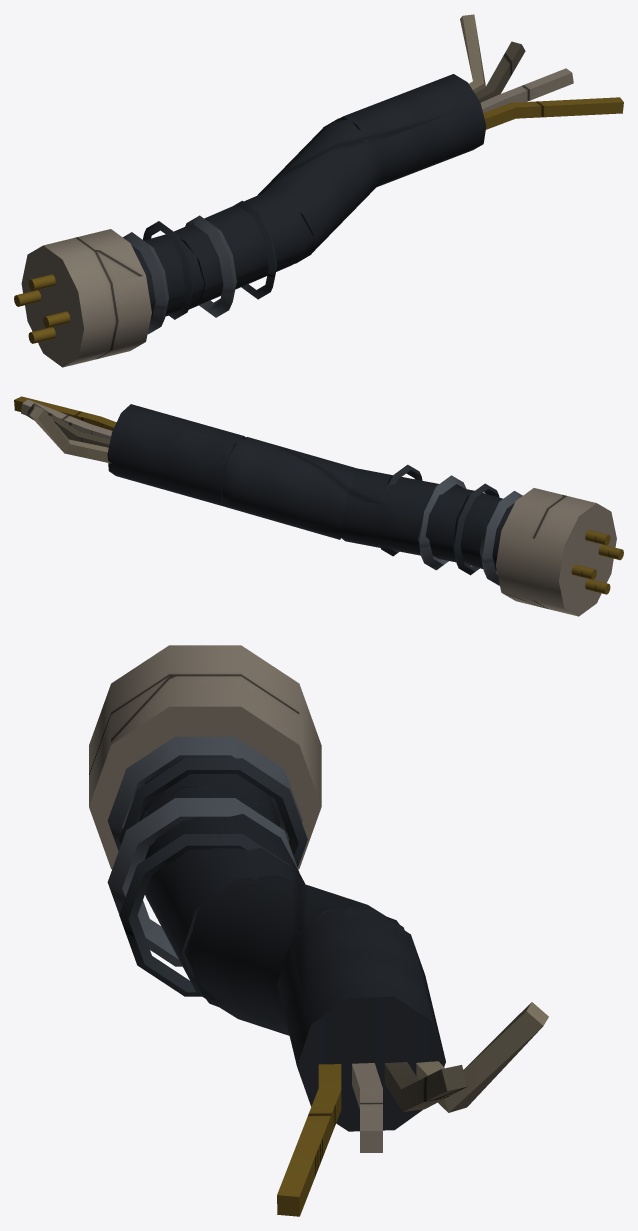
Rendered from cargo-severed-umbilical_lod2.glb.
The picture shows the model from 3 angles, top to bottom: view 1: azimuth 30°, elevation 25°; view 2: azimuth 150°, elevation 25°; view 3: azimuth 270°, elevation 25°; orthographic projection. The views are drawn at different scales.
Parts seen in each view (by area): view 1: LOD2_MechanicalDark, LOD2_BrushedMetal, LOD2_Livery, LOD2_Mechanical, LOD2_Armor, LOD2_Hull, LOD2_Ceramic; view 2: LOD2_MechanicalDark, LOD2_BrushedMetal, LOD2_Mechanical, LOD2_Livery, LOD2_Armor, LOD2_Ceramic, LOD2_Hull; view 3: LOD2_MechanicalDark, LOD2_BrushedMetal, LOD2_Mechanical, LOD2_Armor, LOD2_Livery, LOD2_Ceramic, LOD2_Hull.
Boxes of the visible parts, x1,y1,x2,y2 form: LOD2_MechanicalDark: (131,74,486,318); LOD2_BrushedMetal: (21,68,573,367); LOD2_Livery: (14,97,623,343); LOD2_Mechanical: (123,215,236,334); LOD2_Armor: (143,200,277,319); LOD2_Hull: (475,41,525,102); LOD2_Ceramic: (460,14,485,92); LOD2_MechanicalDark: (107,404,514,570); LOD2_BrushedMetal: (21,399,616,616); LOD2_Mechanical: (417,475,522,585); LOD2_Livery: (14,396,623,594); LOD2_Armor: (379,464,499,575); LOD2_Ceramic: (29,406,111,463); LOD2_Hull: (27,403,110,447); LOD2_MechanicalDark: (139,758,445,1131); LOD2_BrushedMetal: (89,645,382,1152); LOD2_Mechanical: (107,736,302,966); LOD2_Armor: (119,758,307,996); LOD2_Livery: (277,1064,341,1216); LOD2_Ceramic: (416,1002,548,1112); LOD2_Hull: (384,1062,467,1111).
Bounding box in the file's own units: 3.17 × 0.7838 × 1.11.
Materials: 7 (7 with a texture image).
